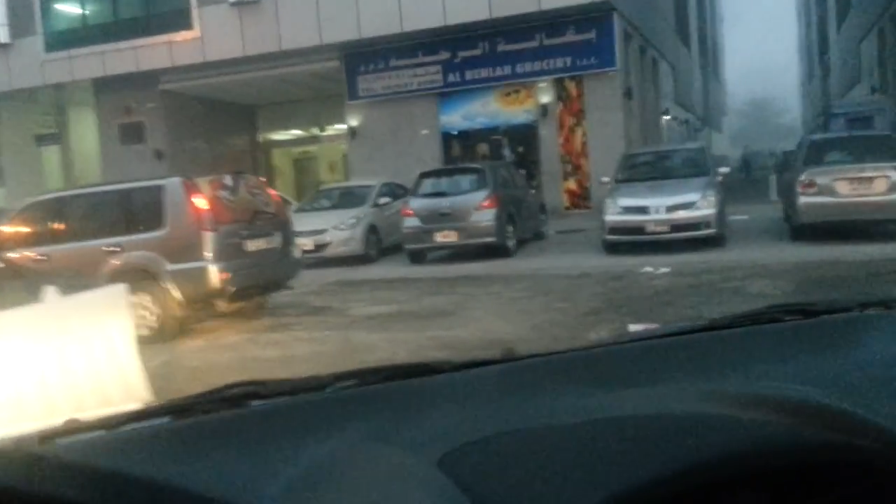car: (1, 170, 300, 343), (399, 158, 547, 267), (593, 142, 732, 254), (777, 132, 896, 241), (276, 179, 421, 265)
